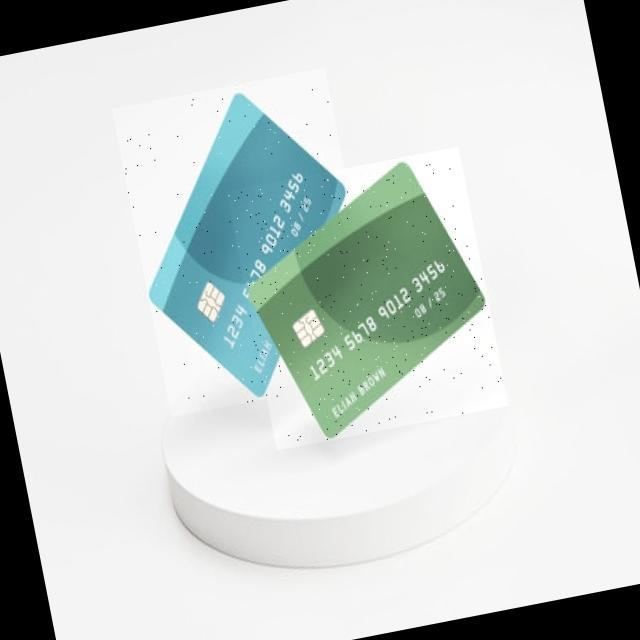payment_card: (245, 159, 486, 440), (148, 92, 347, 396)
